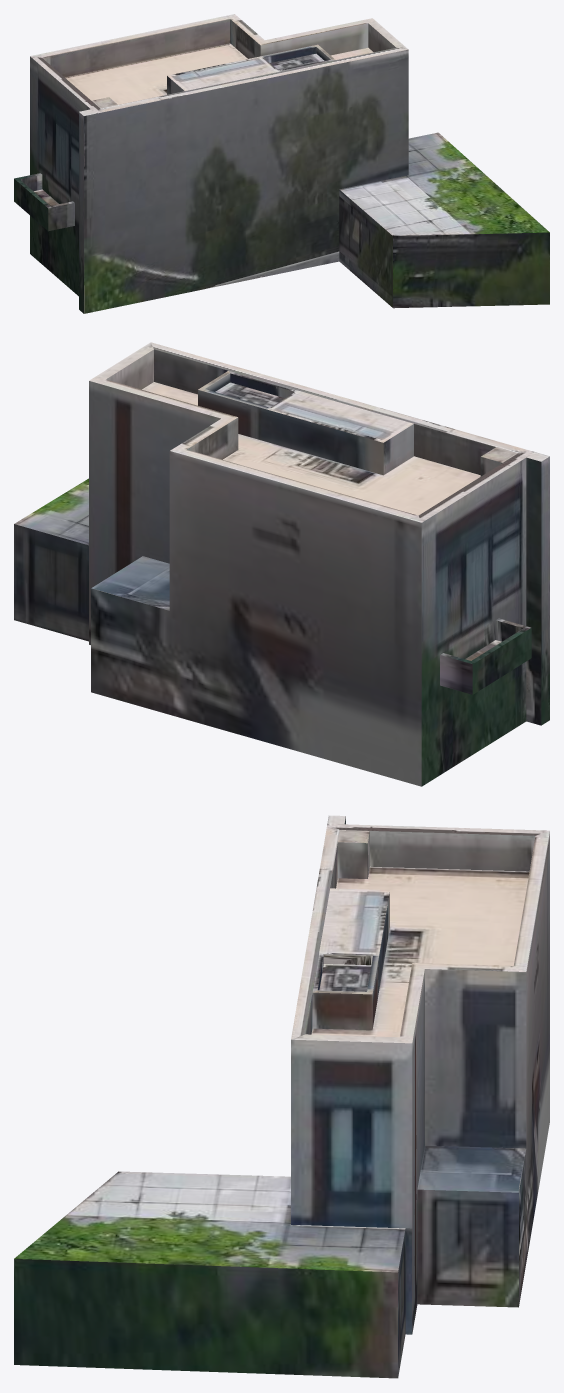
The picture shows the model from 3 angles, top to bottom: view 1: azimuth 30°, elevation 25°; view 2: azimuth 150°, elevation 25°; view 3: azimuth 270°, elevation 25°; orthographic projection. The views are drawn at different scales.
Parts seen in each view (by area): view 1: B282734037801062A0; view 2: B282734037801062A0; view 3: B282734037801062A0.
Part boxes in pixels (x1,y1,x2,y2): B282734037801062A0: (14, 14, 549, 313); B282734037801062A0: (14, 342, 549, 786); B282734037801062A0: (14, 815, 549, 1378).
Size of the model in its own units: 19.11 by 9.28 by 15.48.
Materials: 1 (1 with a texture image).
